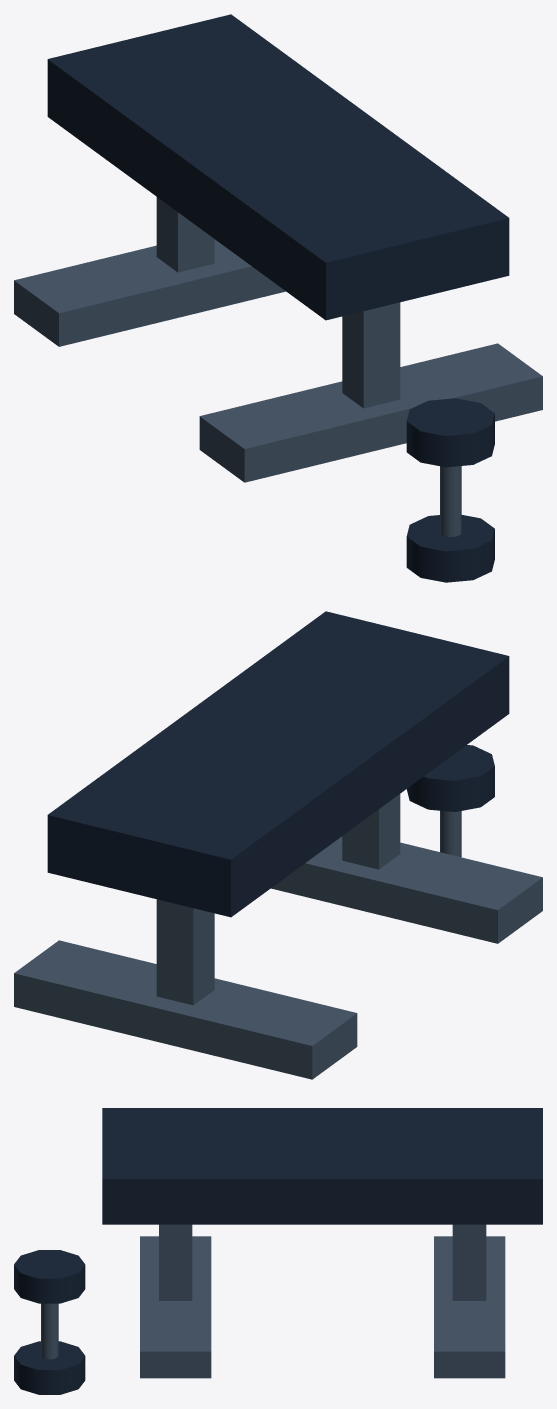
File: bulgarian_split_squat.glb
3 renders of one model, top to bottom at view 1: azimuth 30°, elevation 25°; view 2: azimuth 150°, elevation 25°; view 3: azimuth 270°, elevation 25°, orthographic. The views are drawn at different scales.
Parts seen in each view (by area): view 1: seat, benchFoot (×2), Ldumbbell, benchLeg (×2); view 2: seat, benchFoot (×2), benchLeg (×2), Ldumbbell; view 3: seat, benchFoot (×2), Ldumbbell, benchLeg (×2).
Boxes of the visible parts, bbox=[...] form: seat: bbox=[47, 14, 509, 320]; benchFoot (×2): bbox=[14, 239, 542, 482]; Ldumbbell: bbox=[406, 398, 494, 582]; benchLeg (×2): bbox=[156, 197, 400, 408]; seat: bbox=[47, 611, 509, 917]; benchFoot (×2): bbox=[14, 836, 542, 1079]; benchLeg (×2): bbox=[156, 794, 400, 1005]; Ldumbbell: bbox=[406, 745, 494, 857]; seat: bbox=[102, 1108, 542, 1224]; benchFoot (×2): bbox=[140, 1236, 505, 1378]; Ldumbbell: bbox=[14, 1250, 85, 1394]; benchLeg (×2): bbox=[159, 1224, 486, 1300].
Size of the model in its own units: 0.65 by 0.6225 by 1.26.
